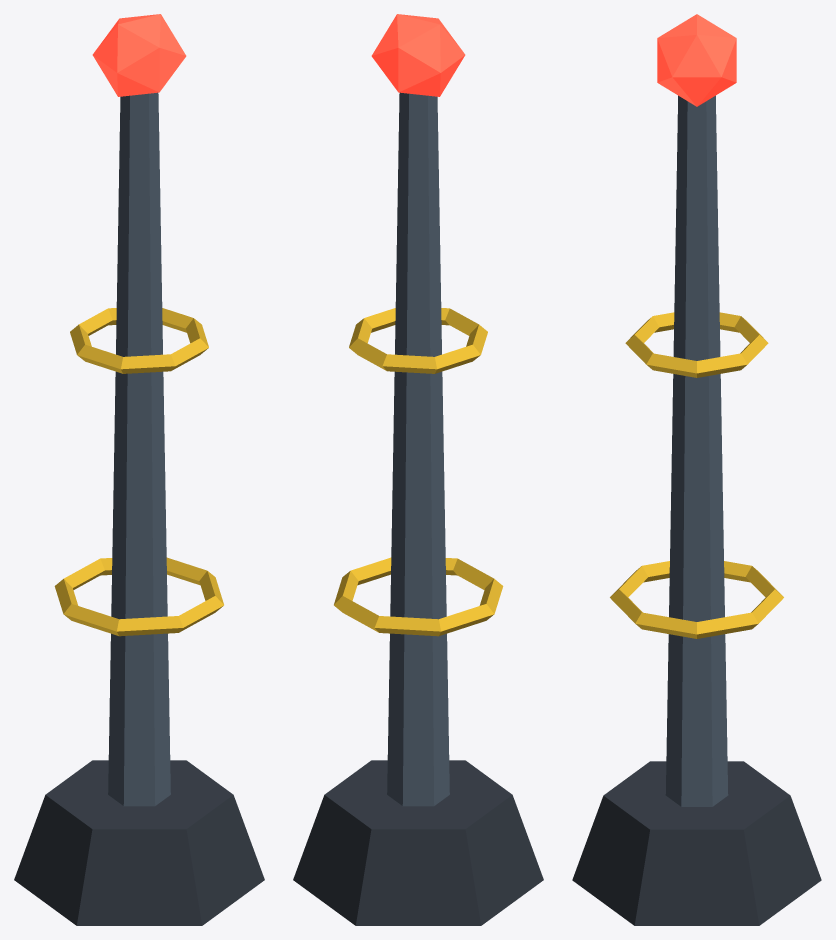
Rendered from robot_antenna.glb.
3 renders of one model, left to right at view 1: azimuth 30°, elevation 25°; view 2: azimuth 150°, elevation 25°; view 3: azimuth 270°, elevation 25°, orthographic.
Parts seen in each view (by area): view 1: robot_antenna_steel, robot_antenna_steelDark, robot_antenna_yellow, robot_antenna_glowRed; view 2: robot_antenna_steel, robot_antenna_steelDark, robot_antenna_yellow, robot_antenna_glowRed; view 3: robot_antenna_steel, robot_antenna_steelDark, robot_antenna_yellow, robot_antenna_glowRed.
Boxes of the visible parts, x1,y1,x2,y2 form: robot_antenna_steel: [108, 92, 170, 806]; robot_antenna_steelDark: [14, 760, 264, 925]; robot_antenna_yellow: [54, 308, 223, 636]; robot_antenna_glowRed: [92, 14, 186, 96]; robot_antenna_steel: [387, 92, 449, 806]; robot_antenna_steelDark: [293, 760, 543, 925]; robot_antenna_yellow: [334, 308, 503, 636]; robot_antenna_glowRed: [371, 14, 465, 96]; robot_antenna_steel: [665, 95, 728, 806]; robot_antenna_steelDark: [572, 761, 821, 925]; robot_antenna_yellow: [610, 312, 783, 638]; robot_antenna_glowRed: [657, 14, 736, 106].
Bounding box in the file's own units: 1.39 × 6.06 × 1.6.
